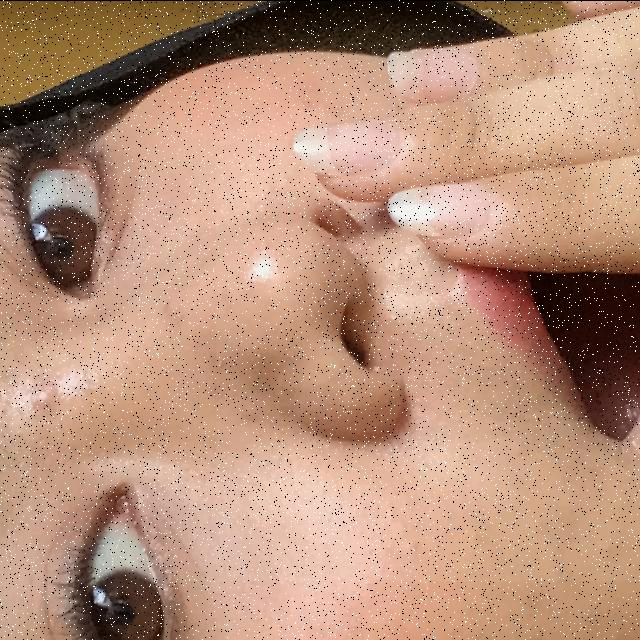ngantuk: (216, 0, 640, 580)
